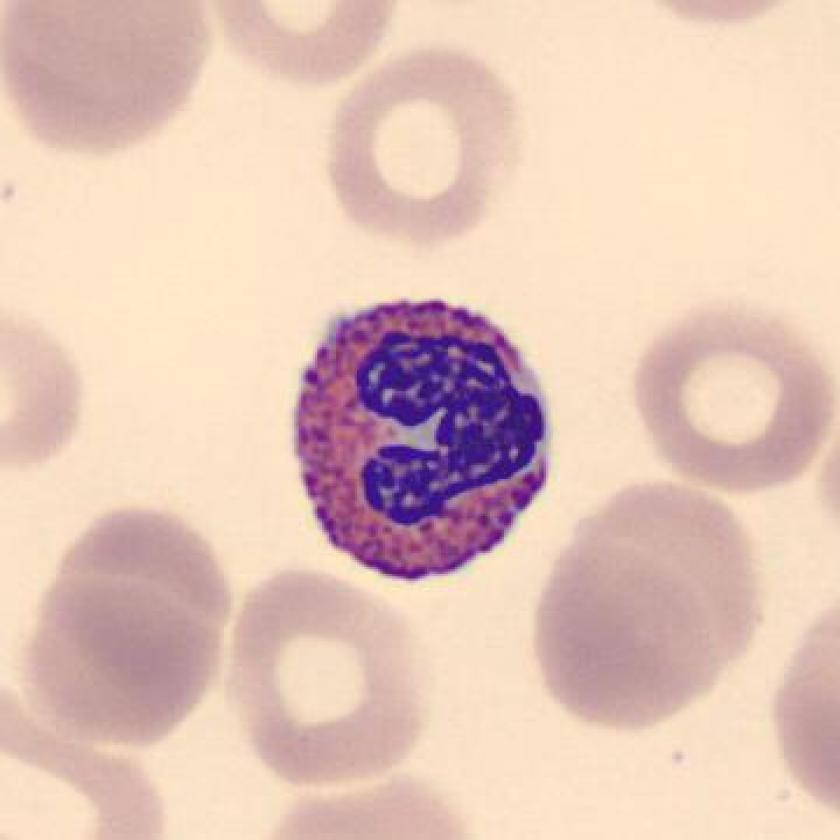eosinophil: (279, 284, 566, 594)
